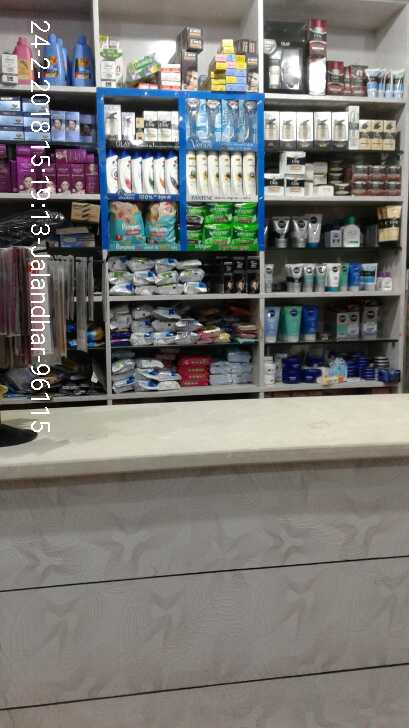venus: (184, 96, 205, 142), (222, 100, 241, 144), (205, 100, 222, 142), (241, 103, 258, 142)
